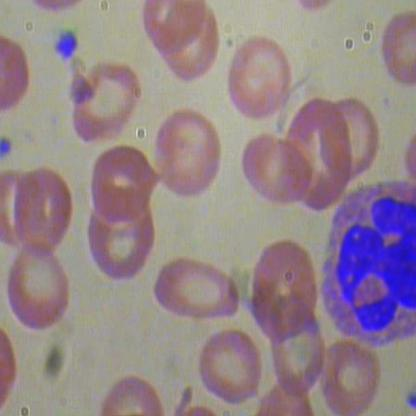Platelets: (50, 26, 82, 64), (1, 131, 15, 159), (402, 390, 415, 415)
RBC: (0, 235, 76, 337), (64, 62, 146, 154), (144, 255, 246, 327), (83, 140, 162, 231), (152, 107, 224, 202), (186, 328, 268, 408), (314, 330, 387, 415), (12, 162, 74, 262), (224, 38, 294, 126), (232, 132, 317, 204), (371, 5, 415, 95), (139, 1, 206, 60)
WBC: (316, 168, 416, 346)
